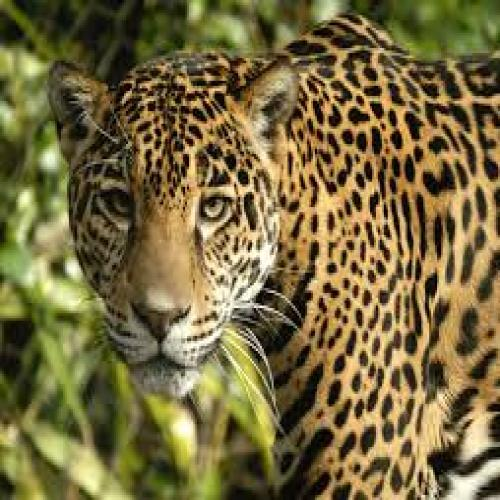jaguar_not-endangered: (47, 15, 498, 500)
